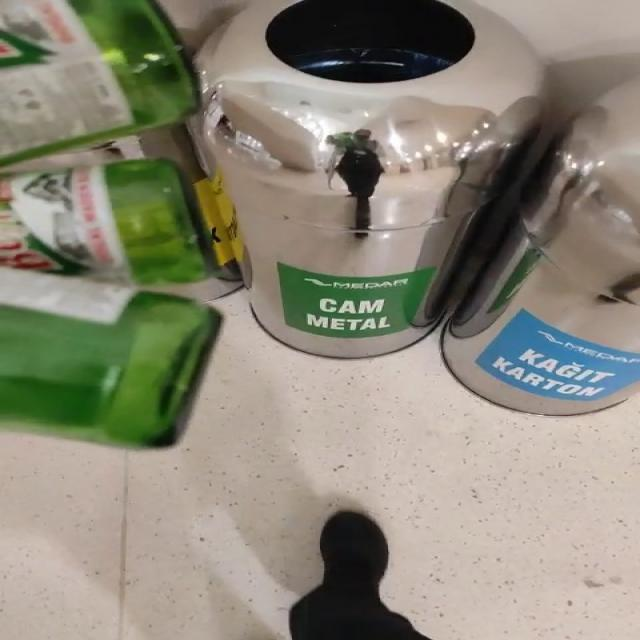bin: (192, 0, 544, 358)
glass: (0, 158, 220, 448), (0, 0, 193, 165)
